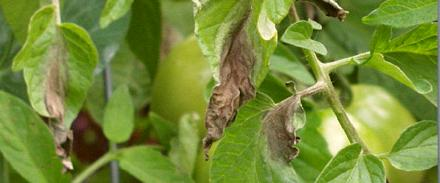Tomato leaf late blight: (186, 0, 322, 158), (4, 5, 112, 176), (188, 84, 322, 183)
